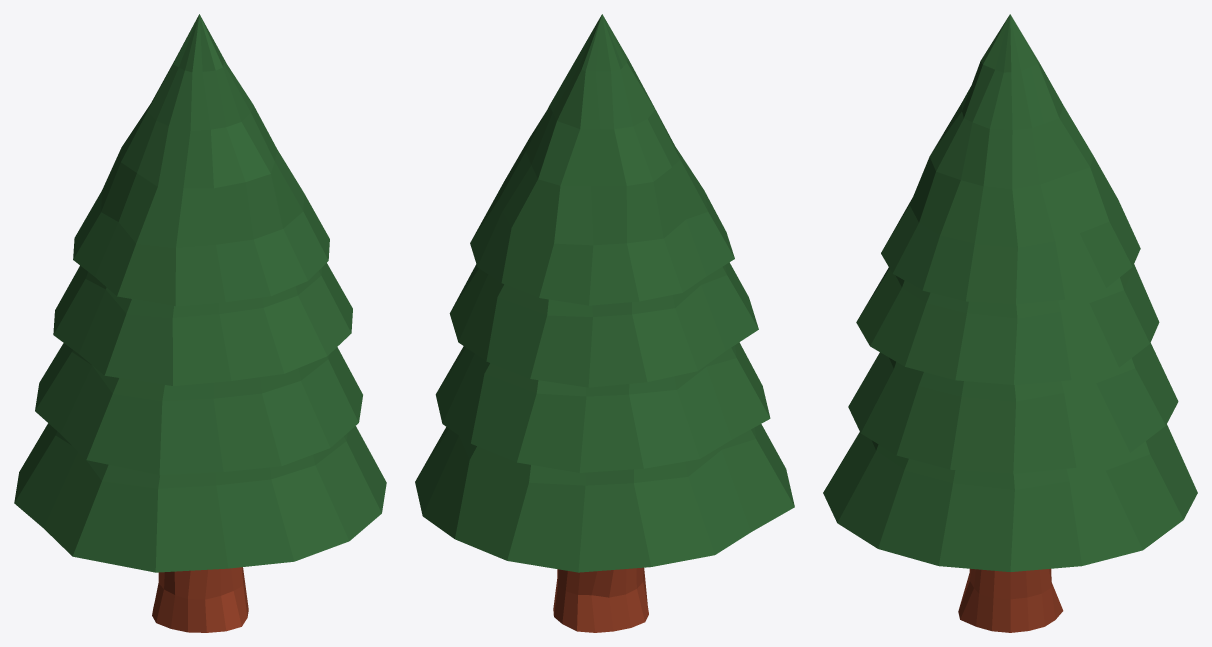
File: tree.fbx
3 renders of one model, left to right at view 1: azimuth 30°, elevation 25°; view 2: azimuth 150°, elevation 25°; view 3: azimuth 270°, elevation 25°, orthographic.
Parts seen in each view (by area): view 1: Leaves, Root; view 2: Leaves, Root; view 3: Leaves, Root.
Part boxes in pixels (box(x1,y1,x2,y2)): Leaves: box(14, 14, 386, 572); Root: box(152, 567, 248, 632); Leaves: box(415, 14, 794, 572); Root: box(553, 567, 648, 632); Leaves: box(823, 14, 1197, 571); Root: box(958, 568, 1063, 632).
Size of the model in its own units: 199 by 352 by 200.
